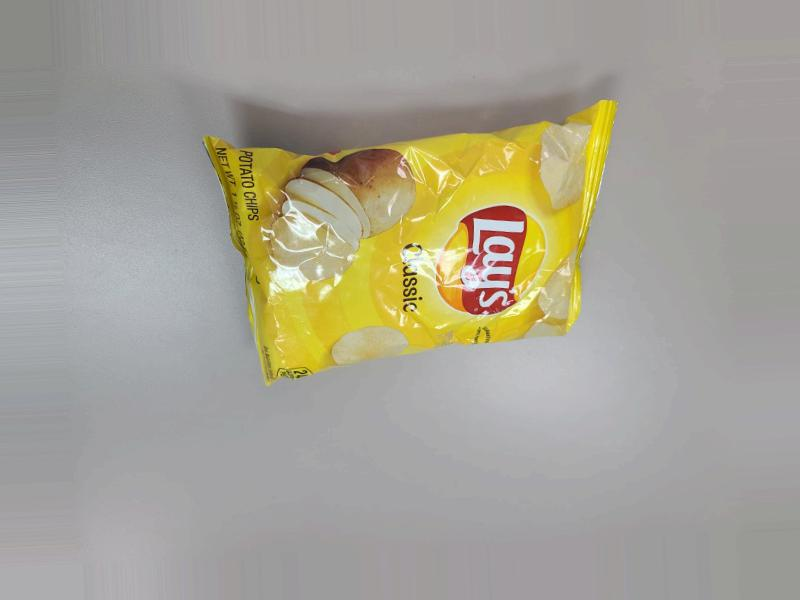lays: (224, 118, 630, 407)
